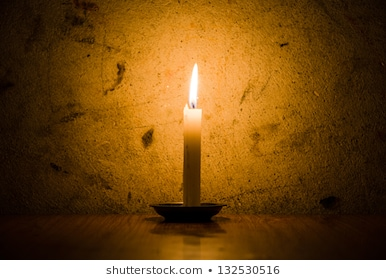Fire: (189, 63, 199, 110)
